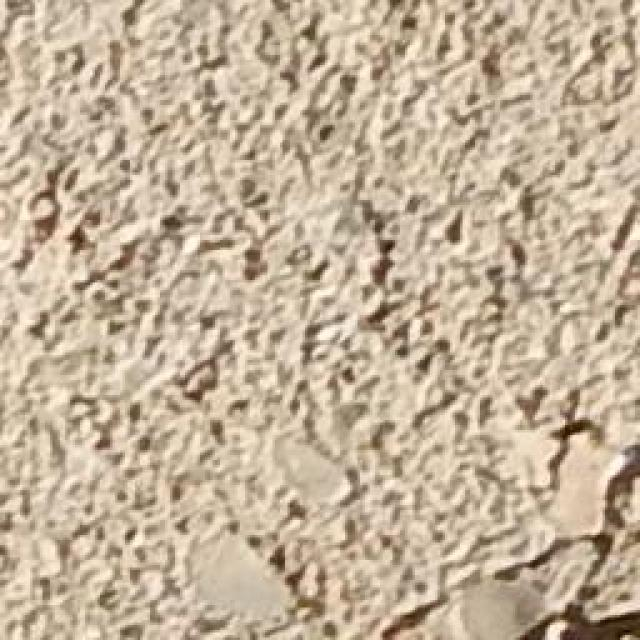concrete-crack: (376, 447, 640, 640)
